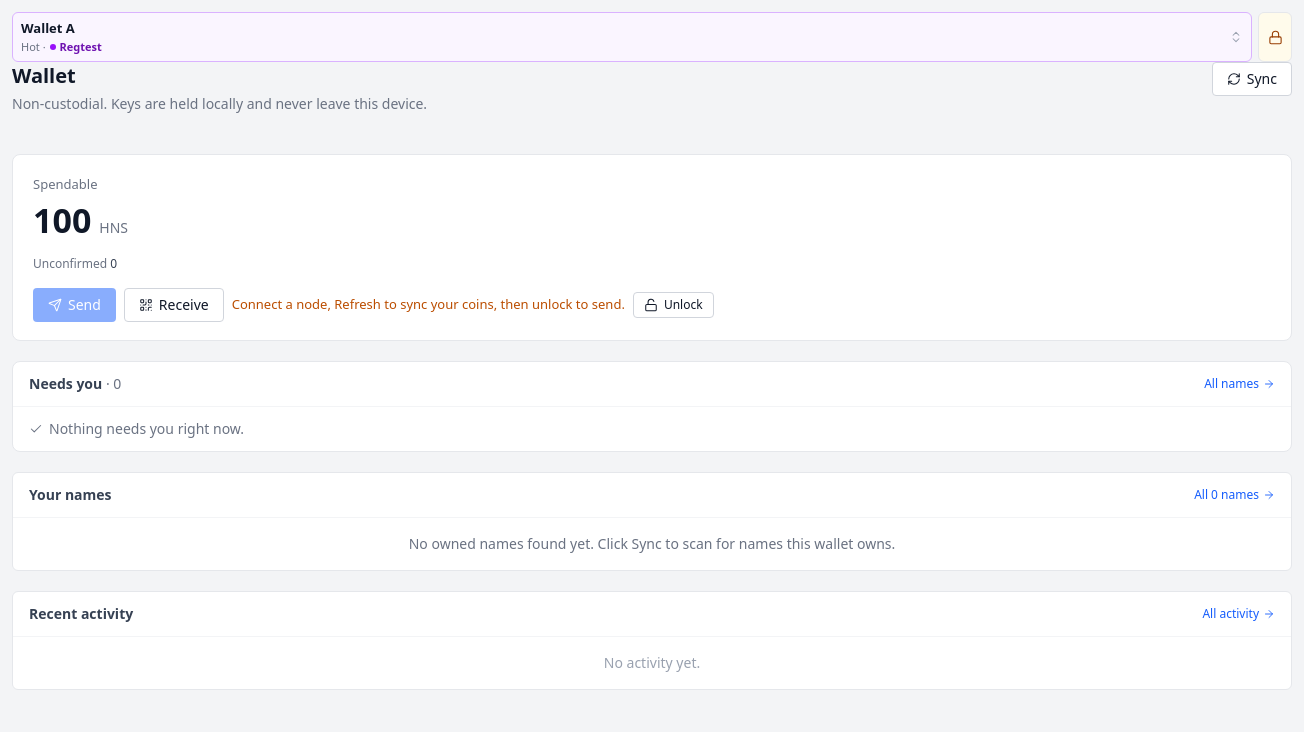
Test: Per-wallet balance persistence (Issue 6) › shows each wallet's own spendable balance, with no cross-wallet bleed on switch
Expected: the text with test id "balance-spendable" reads "100", [33,196,91,242]
Expected: the text with test id "balance-spendable" does not show "200", [33,194,91,246]
Step 1. Click the button with test id "wallet-switcher" → {"x": 48, "y": 28}, box [12,12,1252,62]
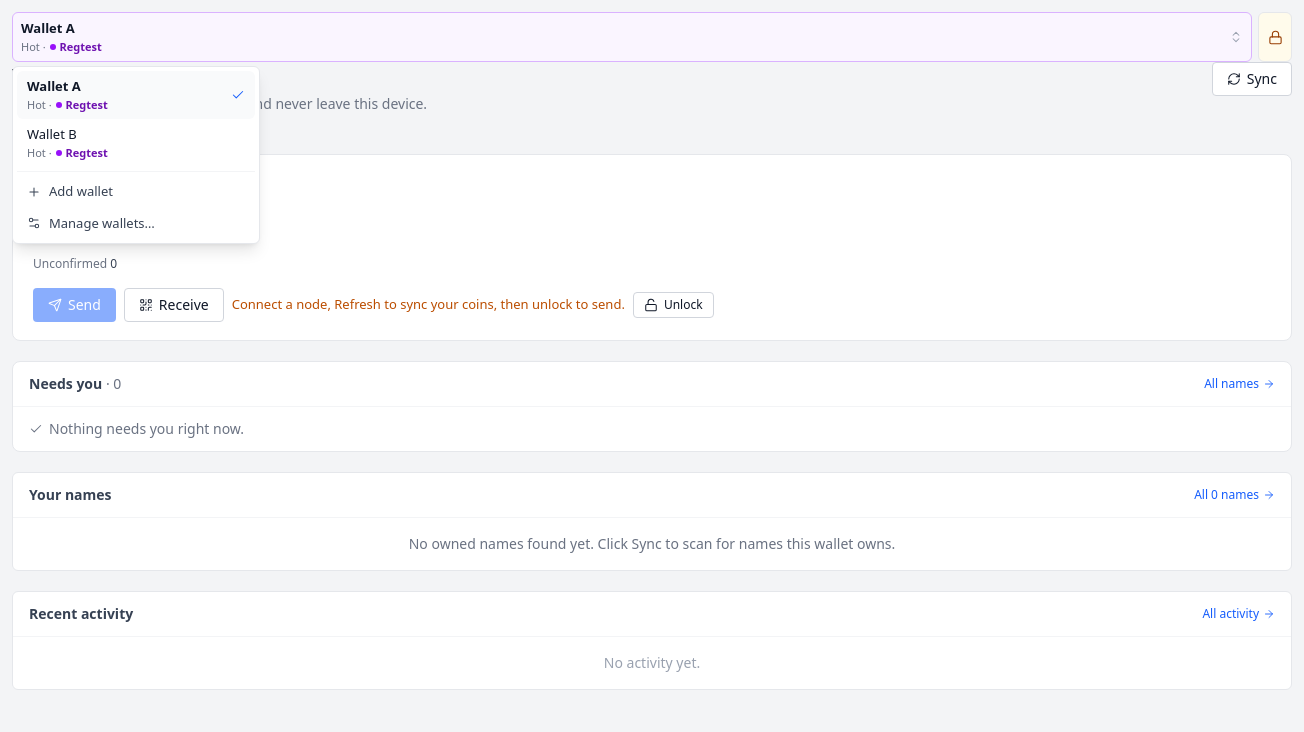
Step 2. Click the menu item "Wallet B Hot · Regtest" → {"x": 136, "y": 143}, box [17,119,255,167]
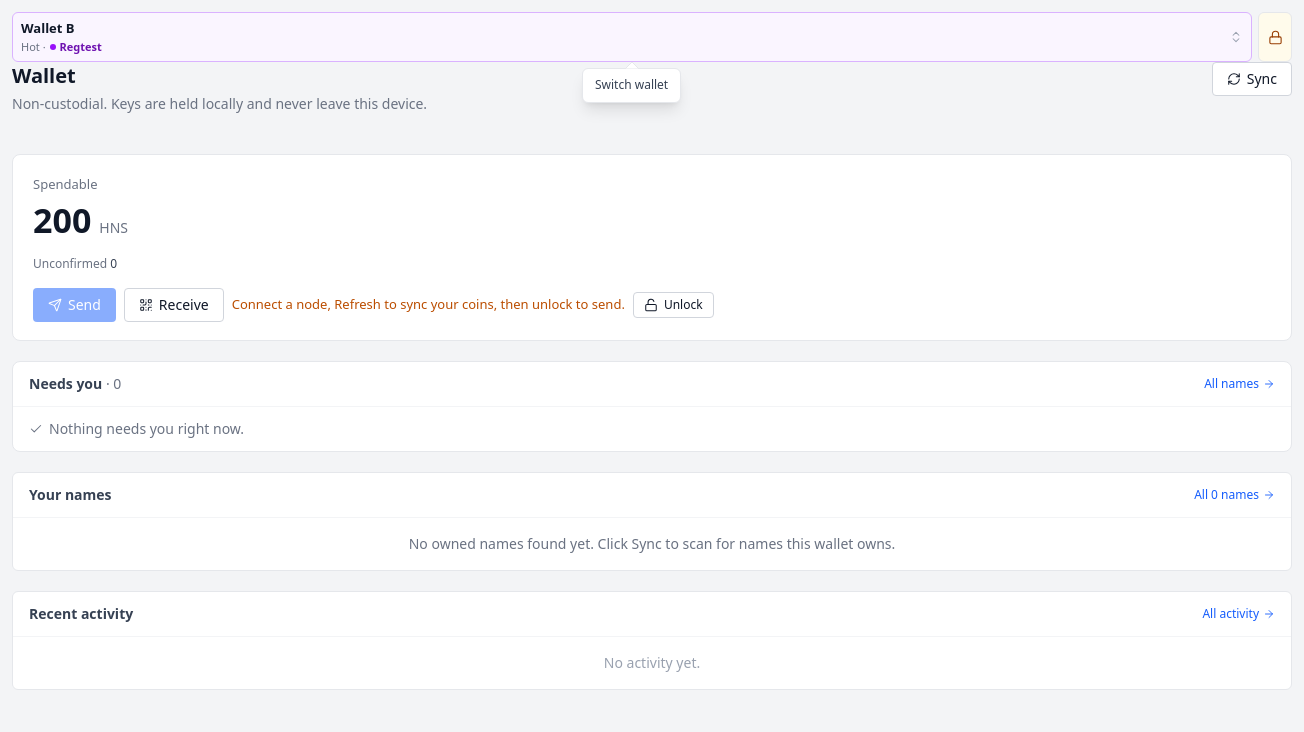
Result: the text with test id "balance-spendable" reads "200" at [33,196,91,242]
Result: the text with test id "balance-spendable" no longer shows "100" at [33,194,91,246]
